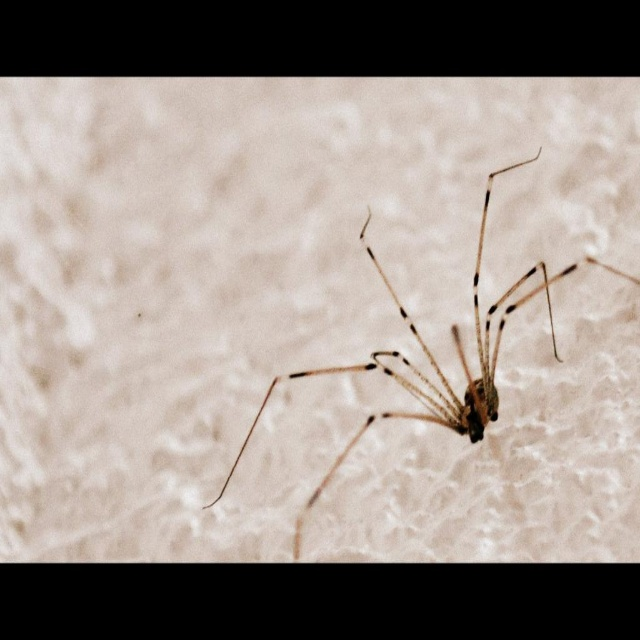Spider: (202, 146, 640, 563)
